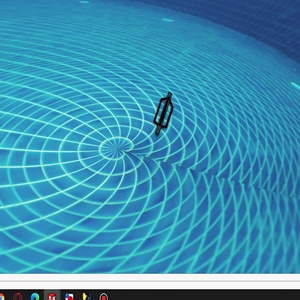submarine: (151, 89, 179, 125)
